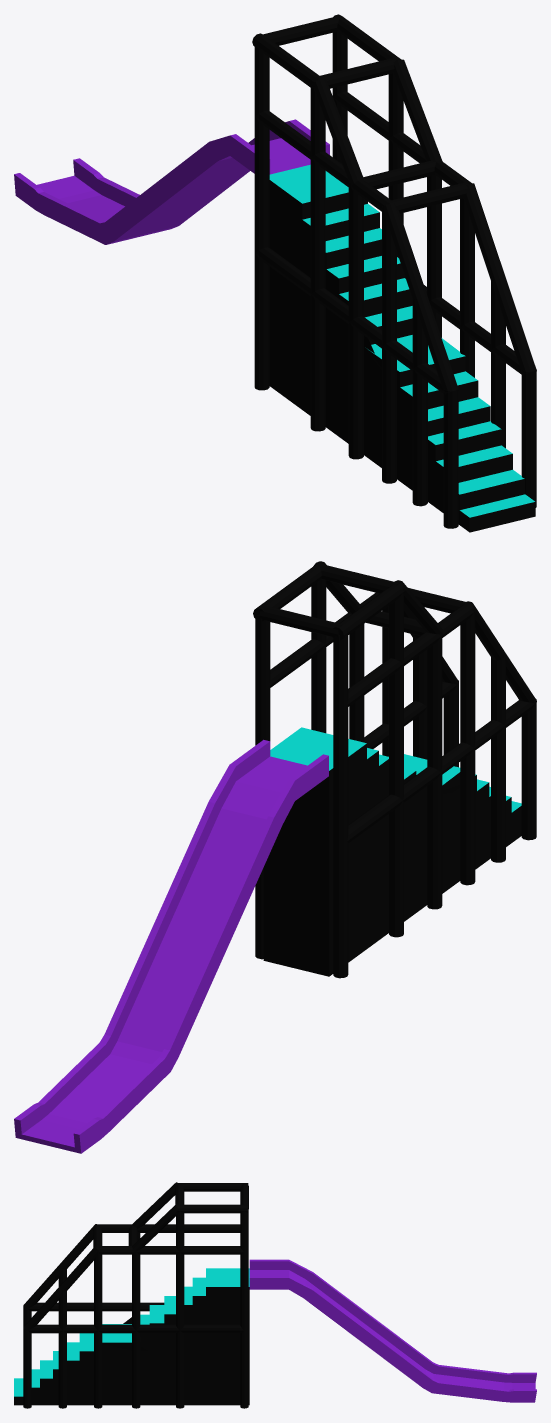
The model's file is slide-01.fbx.
The picture shows the model from 3 angles, top to bottom: view 1: azimuth 30°, elevation 25°; view 2: azimuth 150°, elevation 25°; view 3: azimuth 270°, elevation 25°; orthographic projection. The views are drawn at different scales.
Parts seen in each view (by area): view 1: pCube5, pCube6, pCylinder21, pCylinder19, pCylinder12, pCylinder14, pCylinder24, pCylinder36, pCylinder23, pCylinder15, pCylinder13, pCylinder17 (+16 smaller); view 2: pCube6, pCube5, pCylinder21, pCylinder19, pCylinder12, pCylinder14, pCylinder36, pCylinder15, pCylinder22, pCylinder28, pCylinder17, pCylinder20 (+13 smaller); view 3: pCube5, pCube6, pCylinder35, pCylinder22, pCylinder20, pCylinder11, pCylinder13, pCylinder27, pCylinder16, pCylinder28, pCylinder23, pCylinder24 (+6 smaller).
Boxes of the visible parts, x1,y1,x2,y2 form: pCube5: (269,164,535,532); pCube6: (14,119,329,244); pCylinder21: (254,45,269,390); pCylinder19: (310,86,325,431); pCylinder12: (348,182,363,459); pCylinder14: (382,206,396,483); pCylinder24: (382,202,458,394); pCylinder36: (255,247,443,393); pCylinder23: (463,183,536,374); pCylinder15: (412,298,427,506); pCylinder13: (460,198,474,377); pCylinder17: (443,388,458,528); pCube6: (14,739,328,1153); pCube5: (263,727,521,976); pCylinder21: (333,633,348,978); pCylinder19: (389,593,403,937); pCylinder12: (427,633,442,909); pCylinder14: (460,609,475,885); pCylinder36: (347,700,534,843); pCylinder15: (491,654,505,862); pCylinder22: (255,615,270,959); pCylinder28: (347,602,475,706); pCylinder17: (521,699,536,840); pCylinder20: (311,579,326,733); pCube5: (14,1268,249,1405); pCube6: (249,1259,536,1402); pCylinder35: (28,1324,243,1333); pCylinder22: (240,1209,248,1408); pCylinder20: (176,1211,184,1408); pCylinder11: (132,1250,140,1408); pCylinder13: (94,1250,102,1408); pCylinder27: (96,1246,243,1254); pCylinder16: (58,1290,66,1408); pCylinder28: (96,1224,240,1232); pCylinder23: (23,1246,98,1331); pCylinder24: (23,1224,96,1309).
Bounding box in the file's own units: 1.39 × 5.12 × 12.01.
